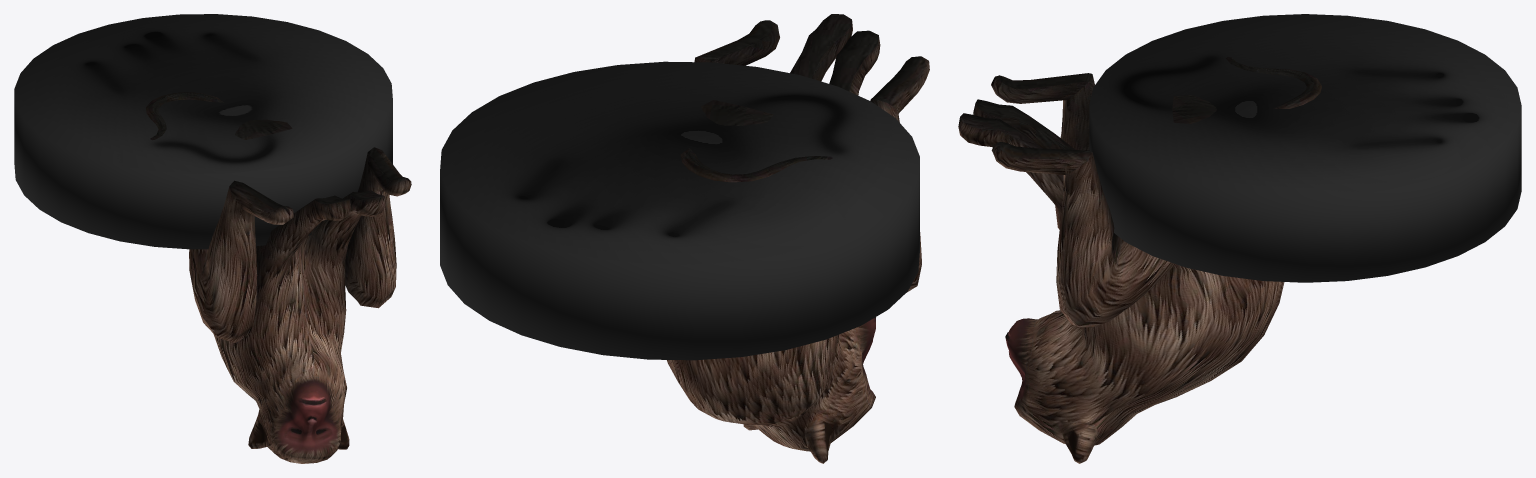
File: monkey.gltf
The picture shows the model from 3 angles, left to right: view 1: azimuth 30°, elevation 25°; view 2: azimuth 150°, elevation 25°; view 3: azimuth 270°, elevation 25°; orthographic projection. The views are drawn at different scales.
Parts seen in each view (by area): view 1: Cylinder_0, monkey2_0; view 2: Cylinder_0, monkey2_0; view 3: Cylinder_0, monkey2_0.
Part boxes in pixels (x1,y1,x2,y2): Cylinder_0: (14,14,392,249); monkey2_0: (146,92,411,463); Cylinder_0: (440,61,919,360); monkey2_0: (667,14,929,463); Cylinder_0: (1089,14,1521,282); monkey2_0: (958,57,1321,463).
Size of the model in its own units: 2.1 by 1.82 by 2.73.
2 materials, 2 textured.
